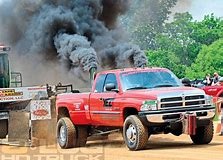smoke: (1, 1, 146, 66)
